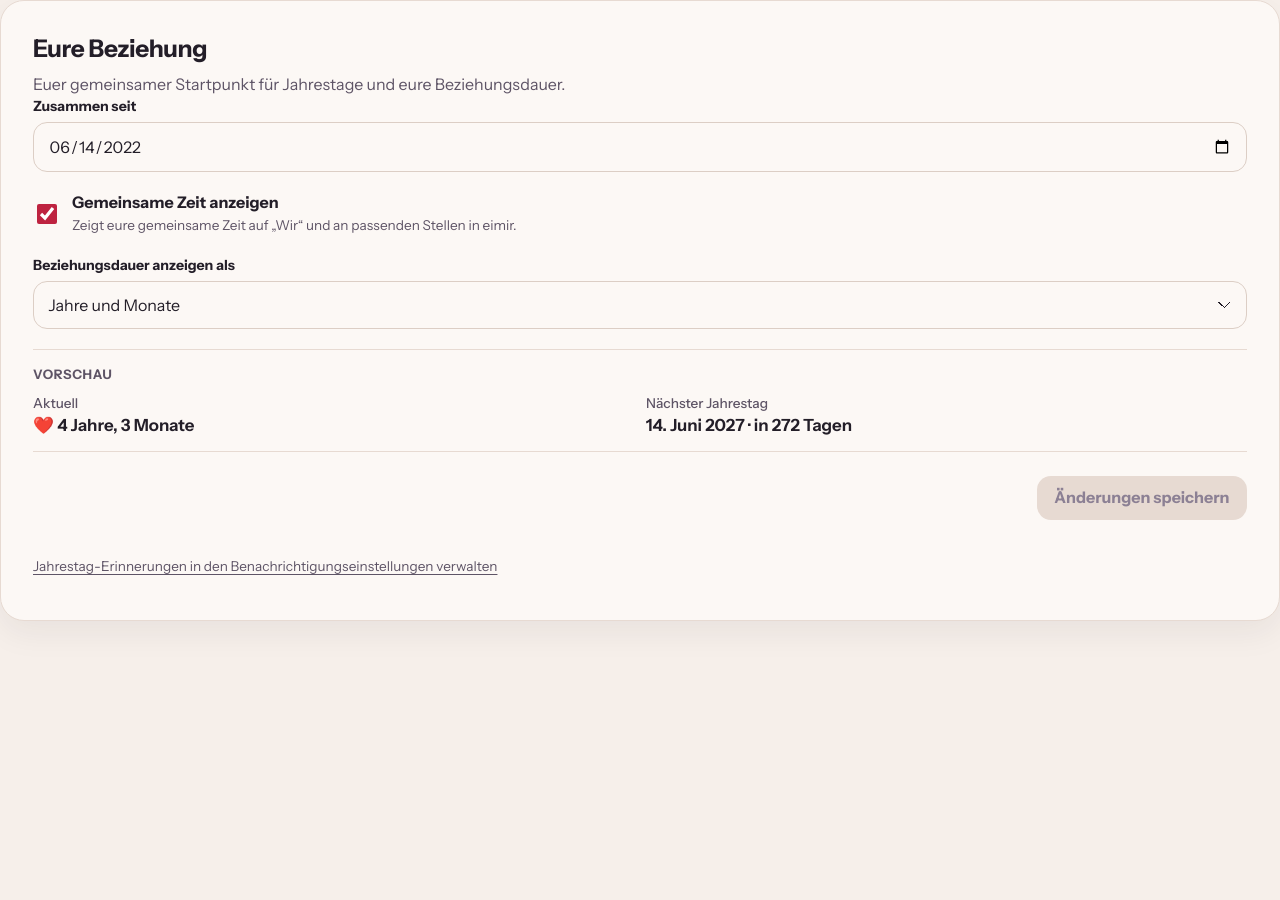
it: RelationshipSettingsSection › submits update mutation and displays subtle save feedback
Expected: the date field labelled "Zusammen seit" is shown, [33,122,1247,172]
Click the checkbox. click: (47, 214)
box: [37,204,57,224]
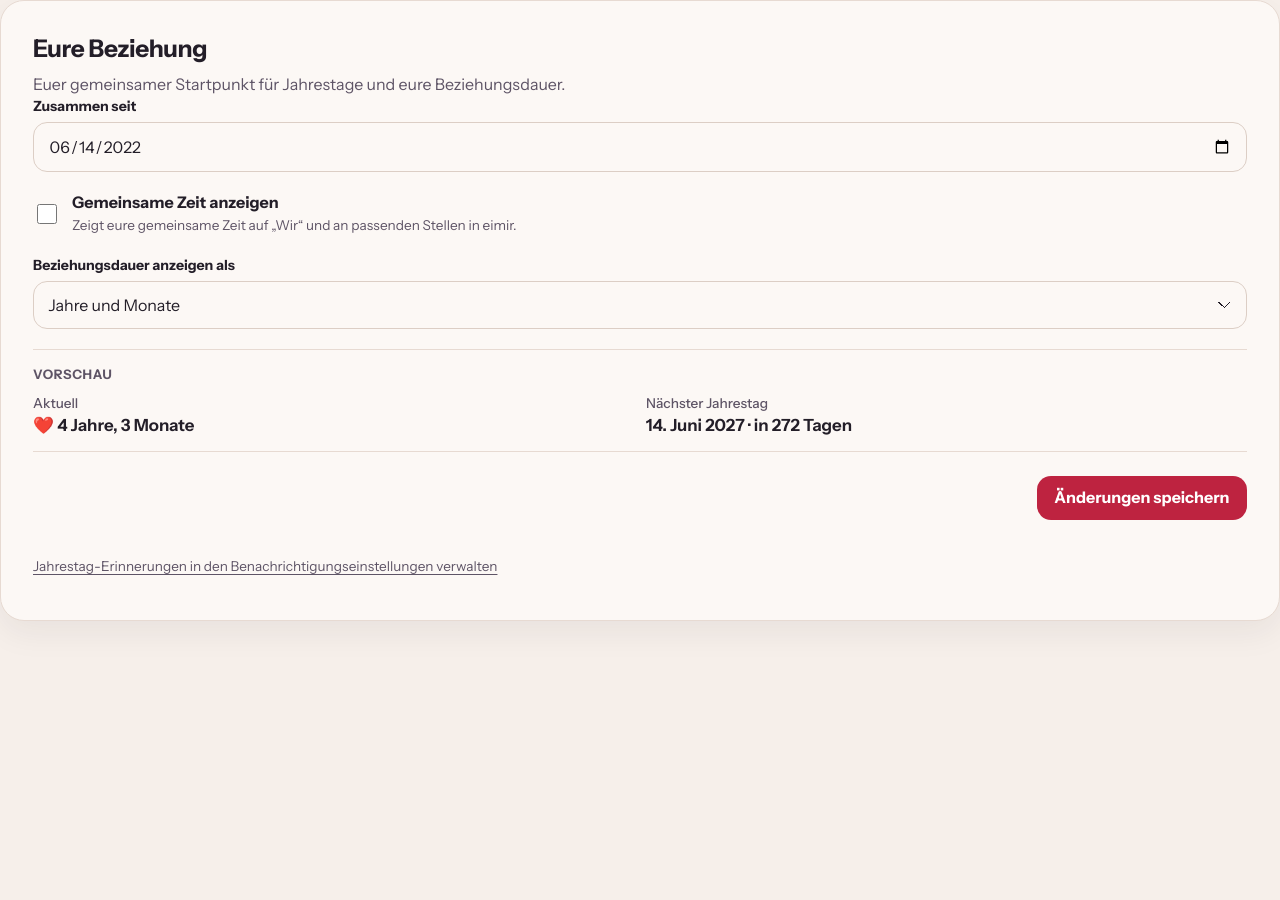
Expected: the button "Änderungen speichern" is enabled
Click the button "Änderungen speichern". click: (1142, 498)
box: [1037,476,1247,520]
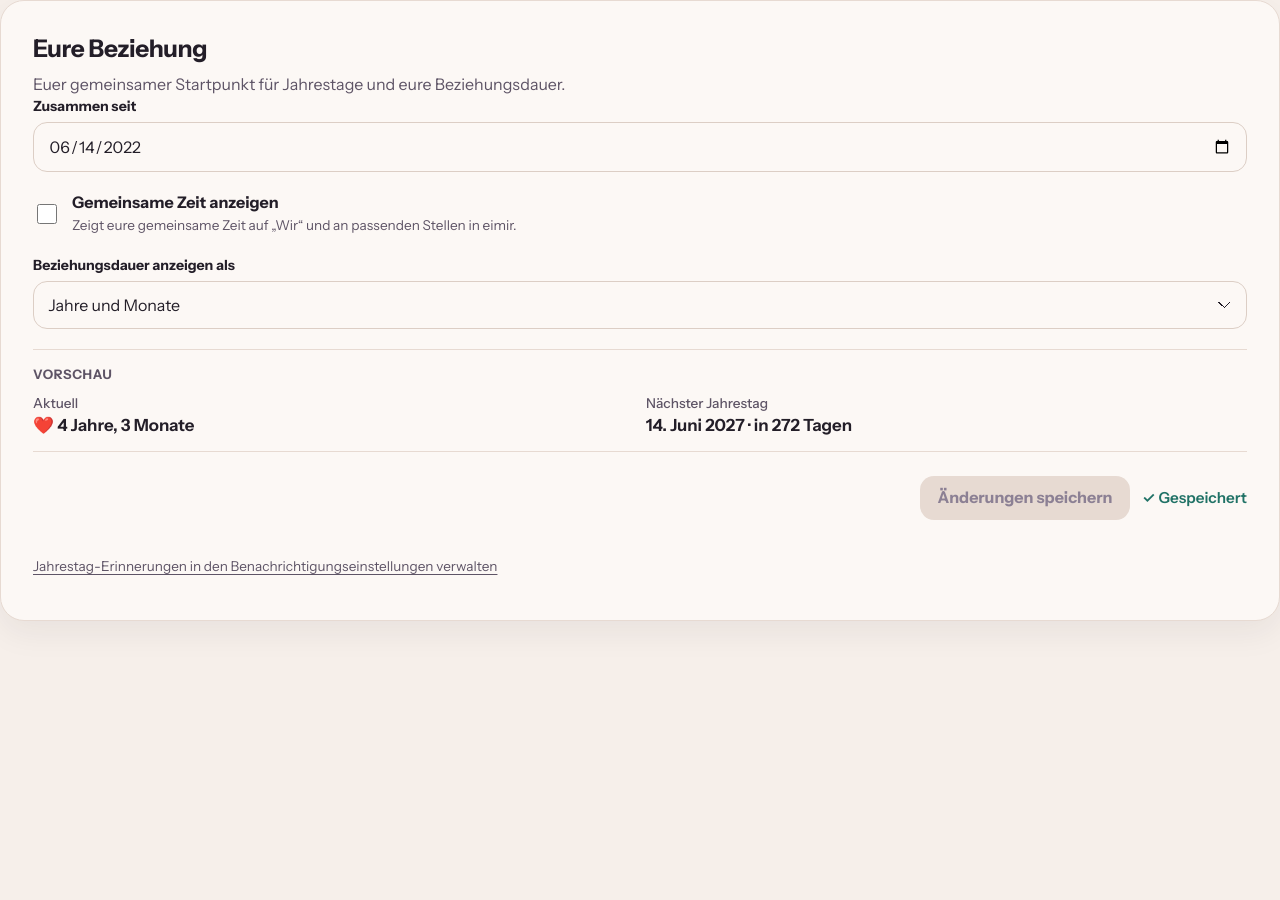
Expected: the text "✓ Gespeichert" is shown, [1142,488,1247,507]
# Subsequent change clears saved feedback and enables save button again
Click the checkbox. click: (47, 214)
box: [37,204,57,224]
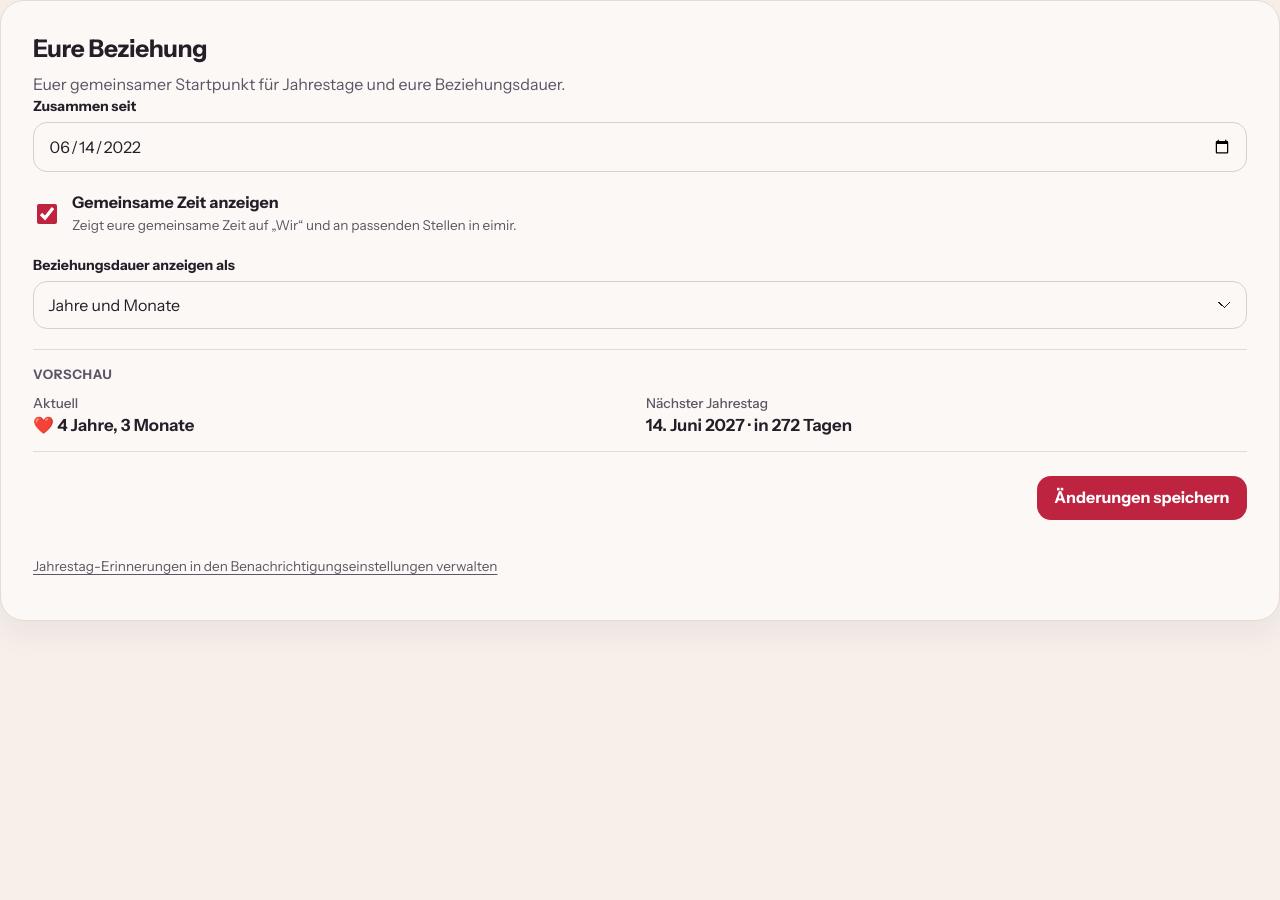
Expected: the button "Änderungen speichern" is enabled, [1037,476,1247,520]
Expected: the text "✓ Gespeichert" is gone
